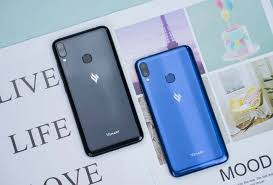vsmart: (50, 24, 146, 158), (132, 39, 224, 178)
